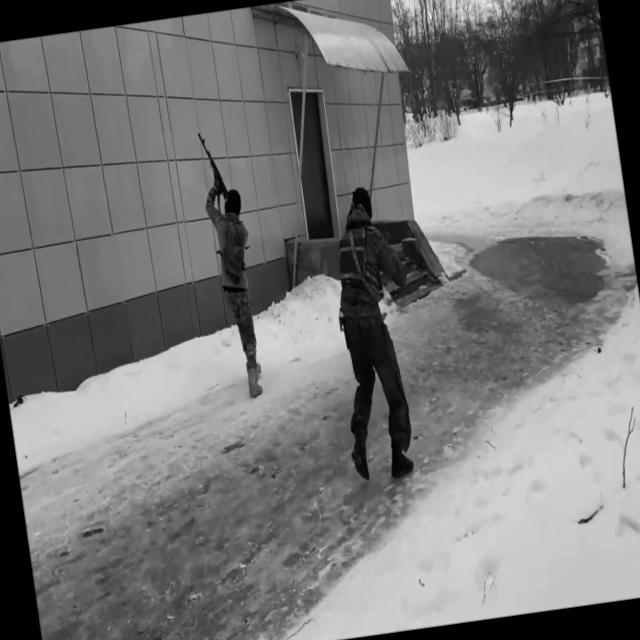gun: (196, 128, 232, 212)
person: (316, 182, 435, 485)
person with a gun: (195, 125, 272, 402)
